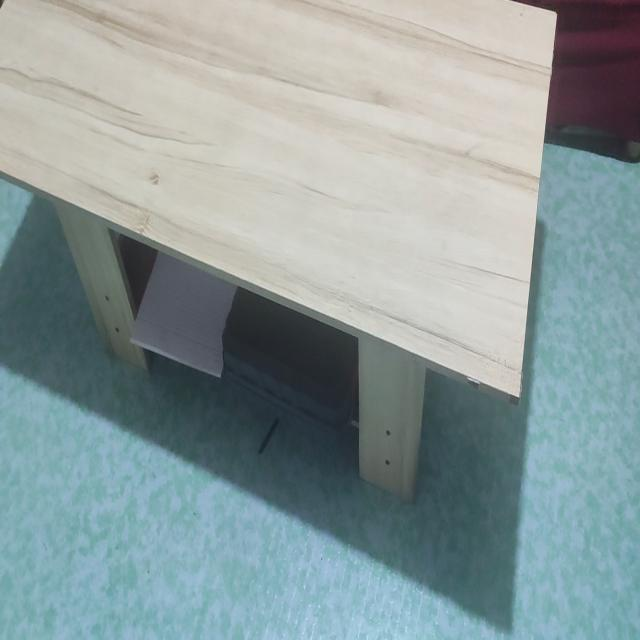table: (0, 0, 564, 538)
